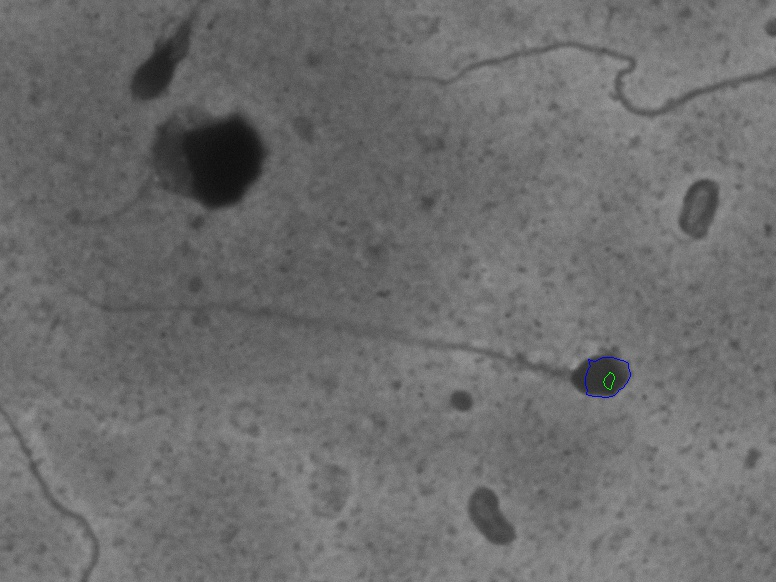Abnormal: (74, 250, 656, 436)
